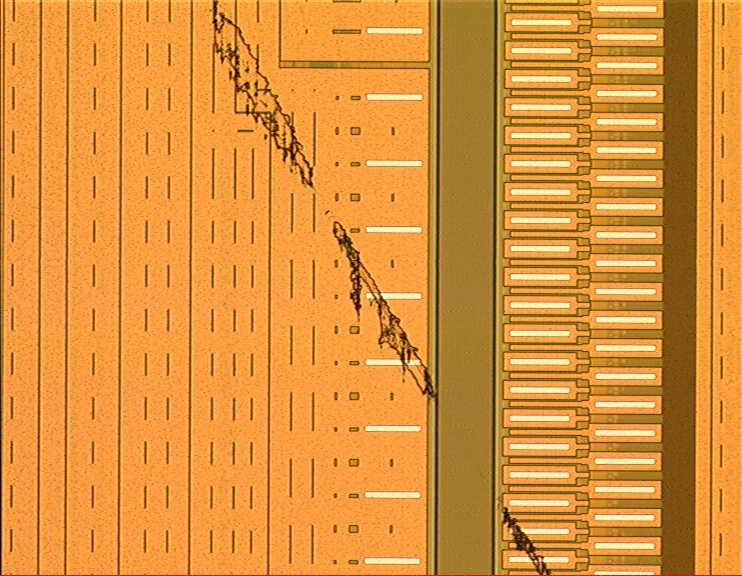SCRATCH: (203, 2, 561, 576)
